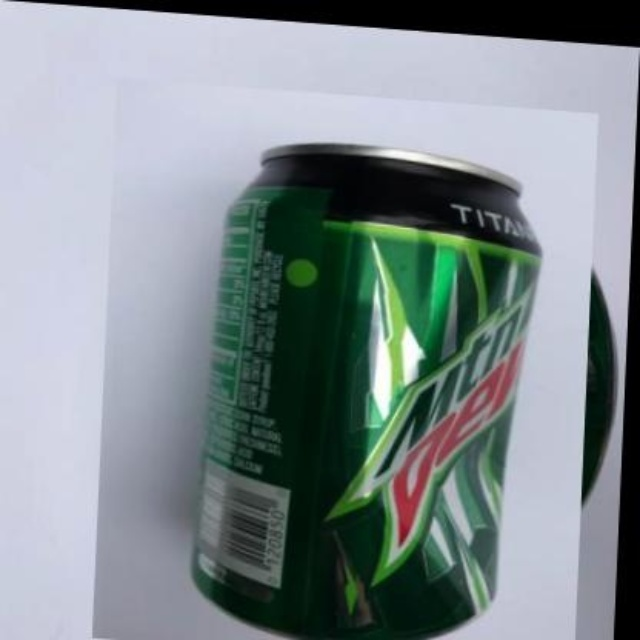trash: (194, 143, 538, 635)
